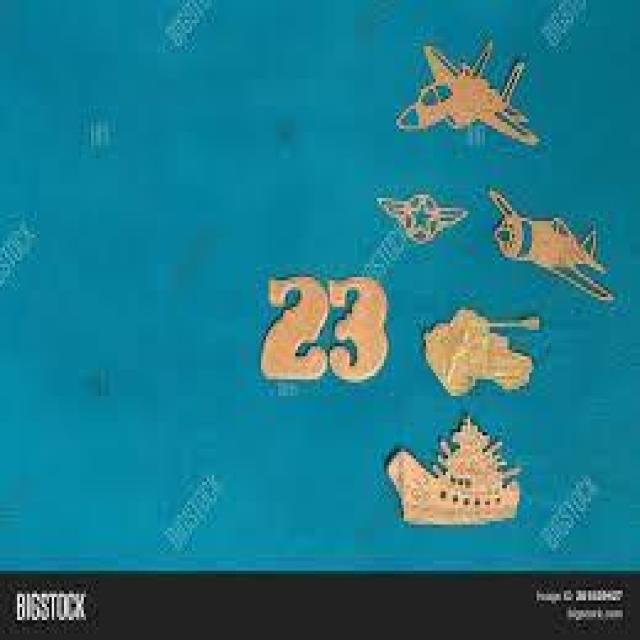Tanks: (424, 304, 542, 402)
